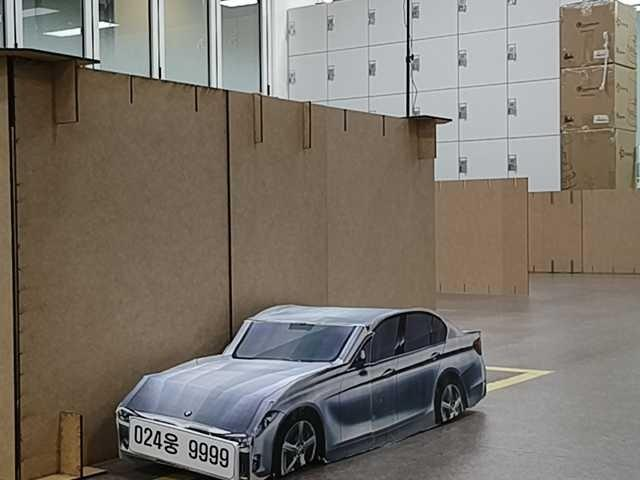car: (115, 306, 485, 480)
id: (126, 409, 239, 476)
